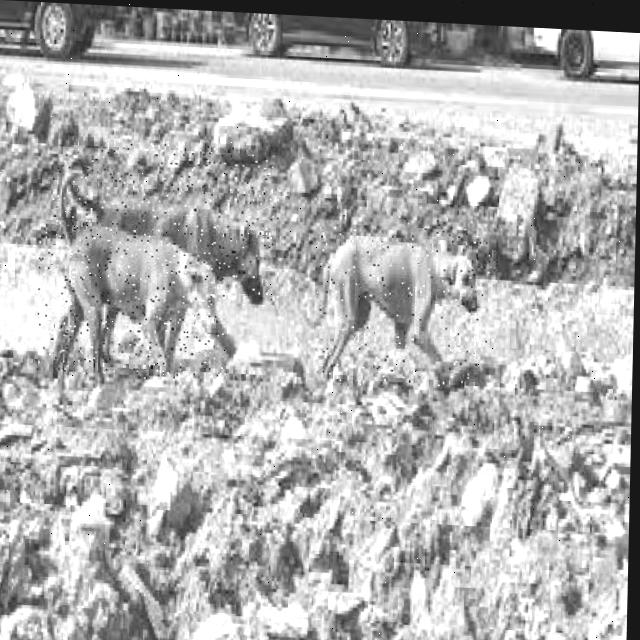Dog: (50, 138, 283, 307), (35, 216, 227, 384), (318, 212, 494, 394)
